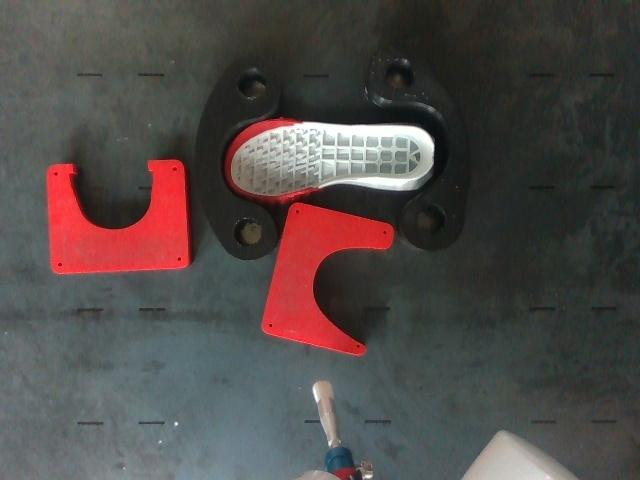shoes: (225, 122, 435, 197)
